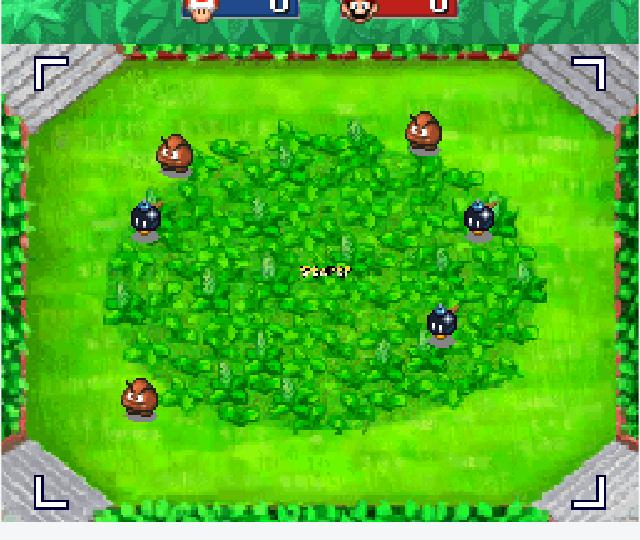bomb: (459, 197, 499, 245), (423, 302, 463, 346), (128, 198, 168, 239)
goomba: (118, 371, 163, 426), (399, 106, 448, 156), (153, 129, 196, 178)
